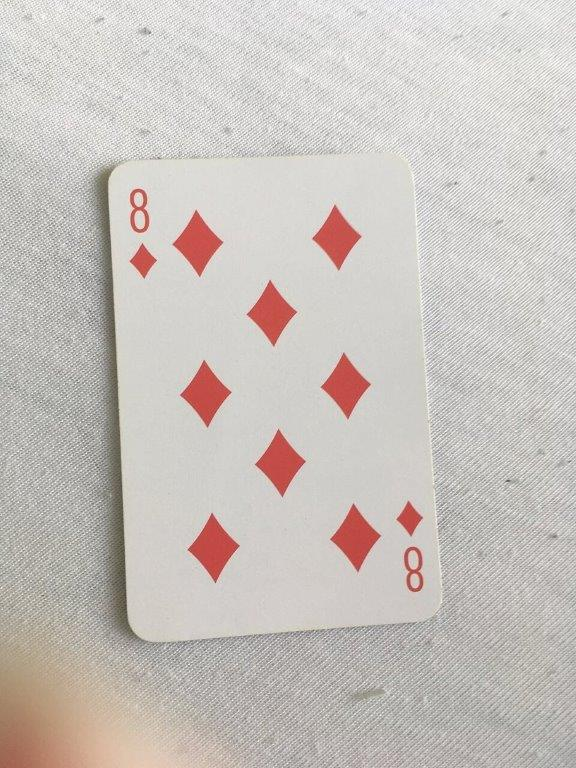8D: (103, 148, 448, 647)
